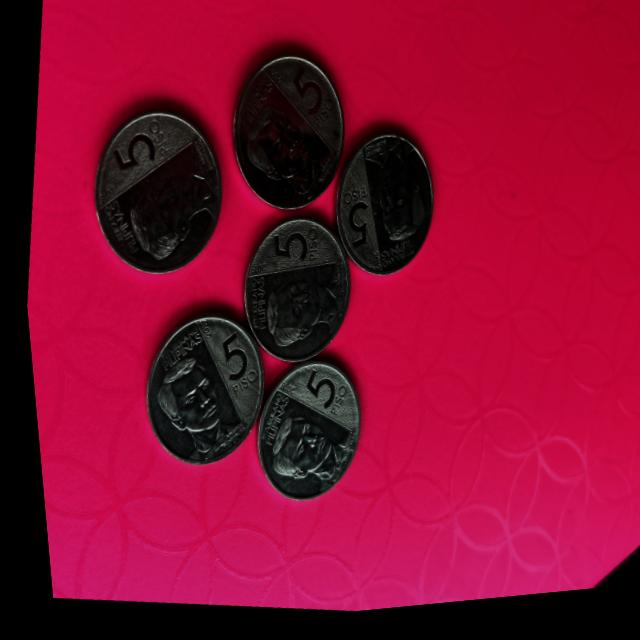5_New_Front: (100, 116, 173, 193), (207, 330, 259, 402), (328, 188, 376, 257), (288, 72, 337, 135), (262, 227, 319, 279), (290, 371, 344, 423)
